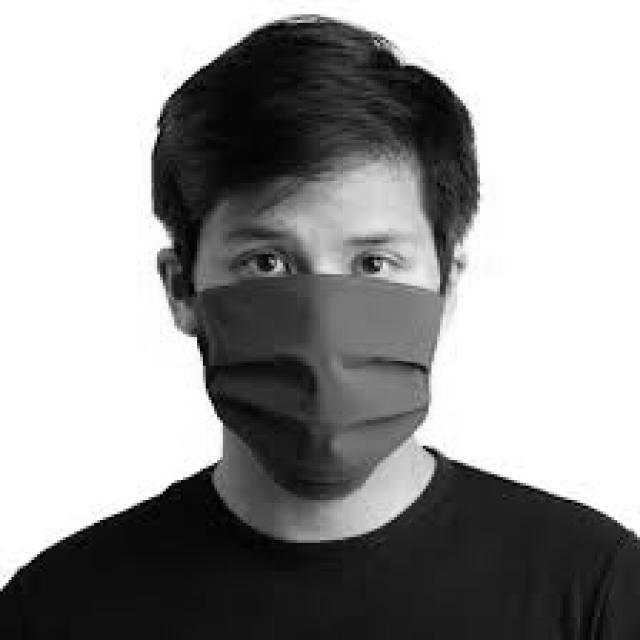fake: (172, 266, 456, 524)
real: (185, 171, 447, 519)
